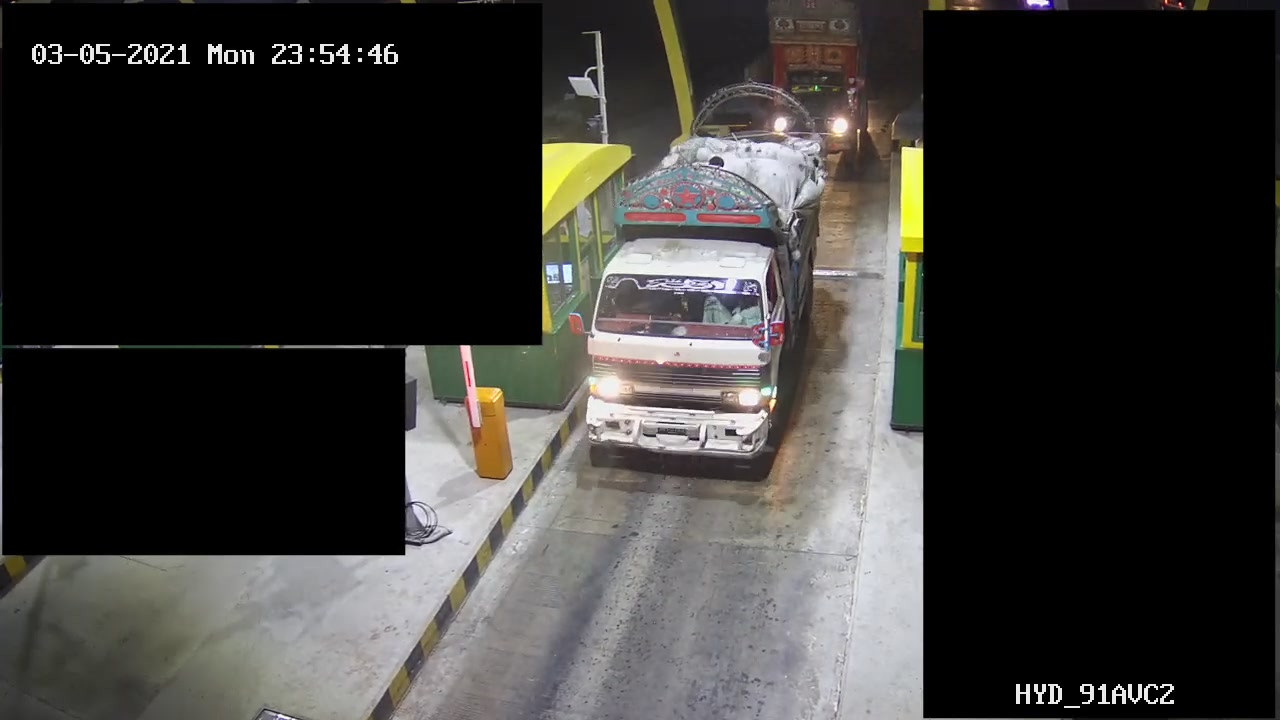F5: (575, 129, 823, 480)
